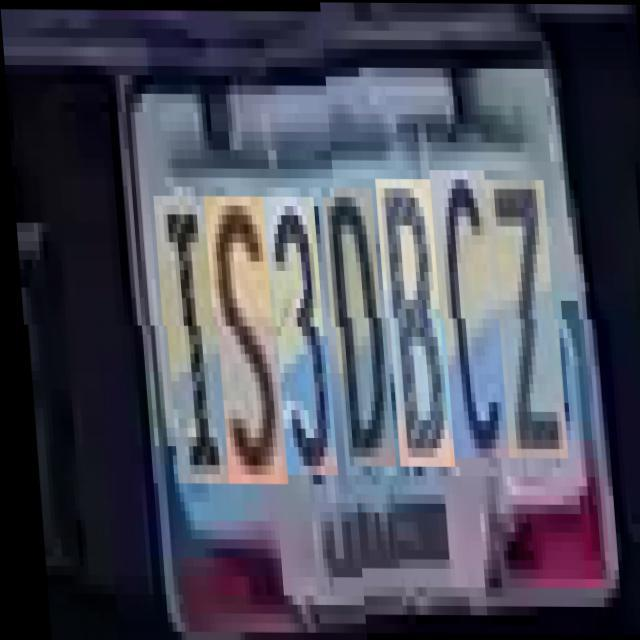3: (264, 196, 331, 475)
B: (377, 188, 448, 476)
C: (432, 178, 502, 466)
D: (323, 197, 390, 476)
I: (154, 196, 226, 484)
S: (204, 196, 280, 484)
Z: (487, 188, 562, 467)
